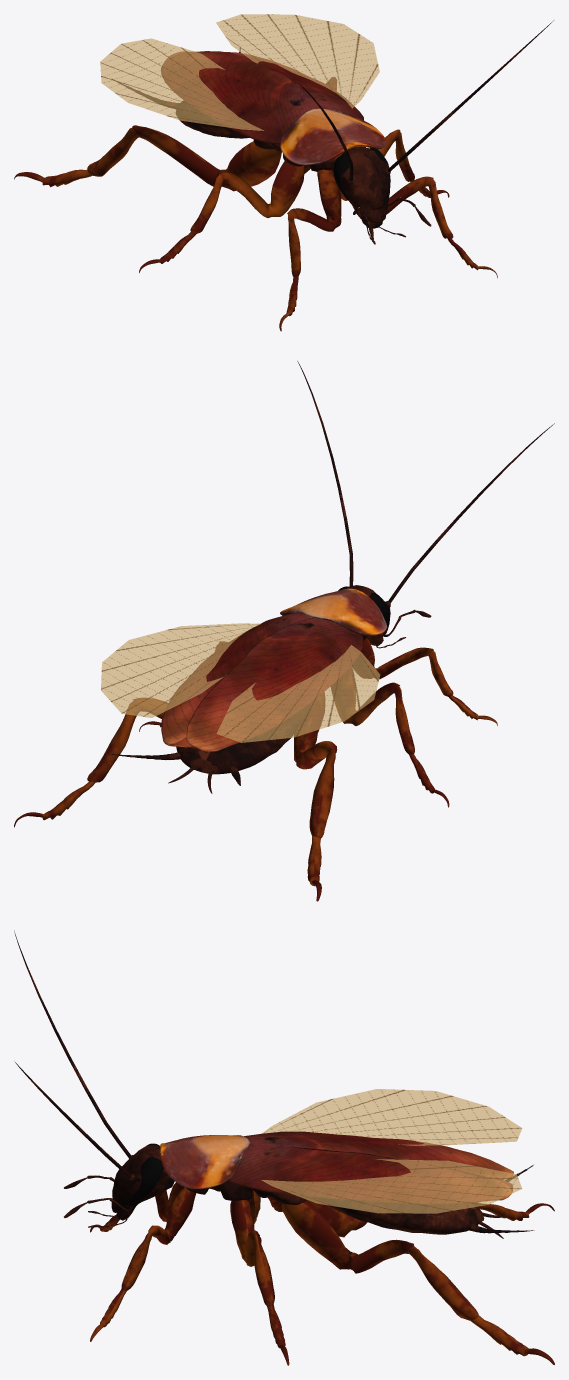
The model's file is cockroach_flight_high.glb.
3 views of the same model, one above another, from view 1: azimuth 30°, elevation 25°; view 2: azimuth 150°, elevation 25°; view 3: azimuth 270°, elevation 25° (orthographic). The views are drawn at different scales.
Parts seen in each view (by area): view 1: body, elytron_left, wing_right, wing_left, leg_left_back, leg_left_middle, leg_left_front, elytron_right, leg_right_front, leg_right_middle; view 2: elytron_left, wing_right, body, wing_left, elytron_right, leg_left_back, leg_left_middle, leg_right_back, leg_left_front; view 3: body, elytron_right, wing_left, wing_right, leg_right_back, elytron_left, leg_right_middle, leg_right_front, leg_left_back, leg_left_front.
Part boxes in pixels (x1=…): body: x1=112, y1=20, x2=553, y2=244; elytron_left: x1=161, y1=51, x2=312, y2=144; wing_right: x1=216, y1=14, x2=379, y2=108; wing_left: x1=100, y1=38, x2=263, y2=130; leg_left_back: x1=14, y1=125, x2=281, y2=191; leg_left_middle: x1=139, y1=161, x2=304, y2=272; leg_left_front: x1=279, y1=169, x2=341, y2=331; elytron_right: x1=226, y1=52, x2=363, y2=120; leg_right_front: x1=352, y1=176, x2=497, y2=278; leg_right_middle: x1=331, y1=129, x2=449, y2=200; elytron_left: x1=186, y1=618, x2=363, y2=751; wing_right: x1=101, y1=623, x2=261, y2=717; body: x1=111, y1=361, x2=554, y2=793; wing_left: x1=216, y1=645, x2=380, y2=742; elytron_right: x1=161, y1=613, x2=311, y2=747; leg_left_back: x1=294, y1=692, x2=337, y2=901; leg_left_middle: x1=331, y1=666, x2=449, y2=807; leg_right_back: x1=14, y1=698, x2=168, y2=827; leg_left_front: x1=352, y1=637, x2=497, y2=725; body: x1=14, y1=930, x2=534, y2=1238; elytron_right: x1=229, y1=1145, x2=512, y2=1204; wing_left: x1=262, y1=1089, x2=522, y2=1145; wing_right: x1=262, y1=1159, x2=522, y2=1213; leg_right_back: x1=281, y1=1200, x2=554, y2=1364; elytron_left: x1=244, y1=1131, x2=513, y2=1179; leg_right_middle: x1=230, y1=1200, x2=289, y2=1365; leg_right_front: x1=90, y1=1187, x2=195, y2=1341; leg_left_back: x1=307, y1=1196, x2=554, y2=1237; leg_left_front: x1=90, y1=1182, x2=184, y2=1232.
Bounding box in the file's own units: 2.02 × 1.76 × 2.94.
Materials: 2 (2 with a texture image).
